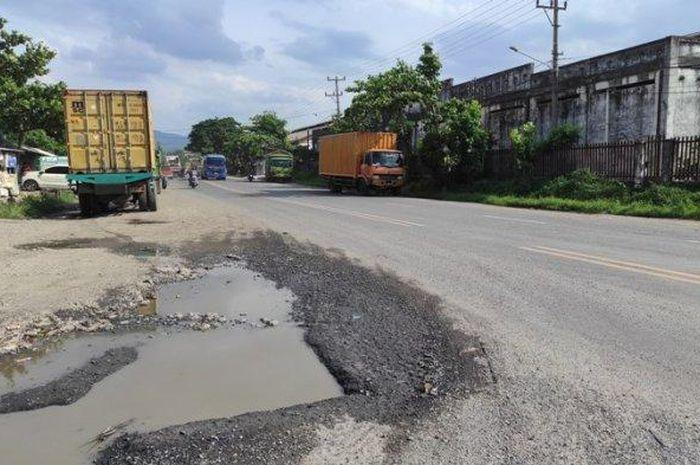Pothole: (0, 223, 377, 465)
